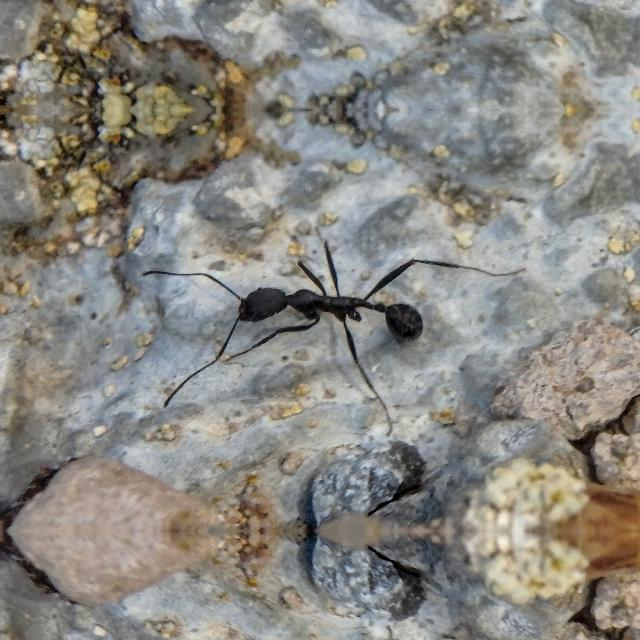Apheanogaster: (190, 250, 450, 364)
